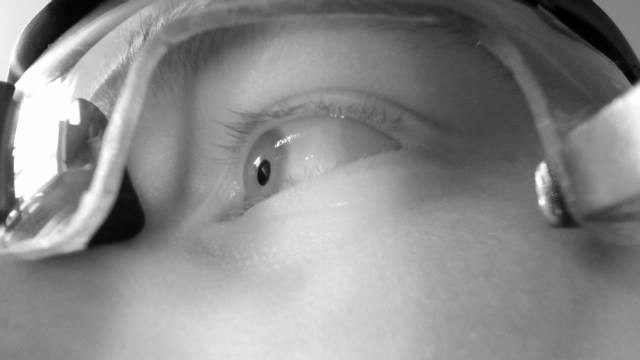pupil: (256, 159, 271, 187)
